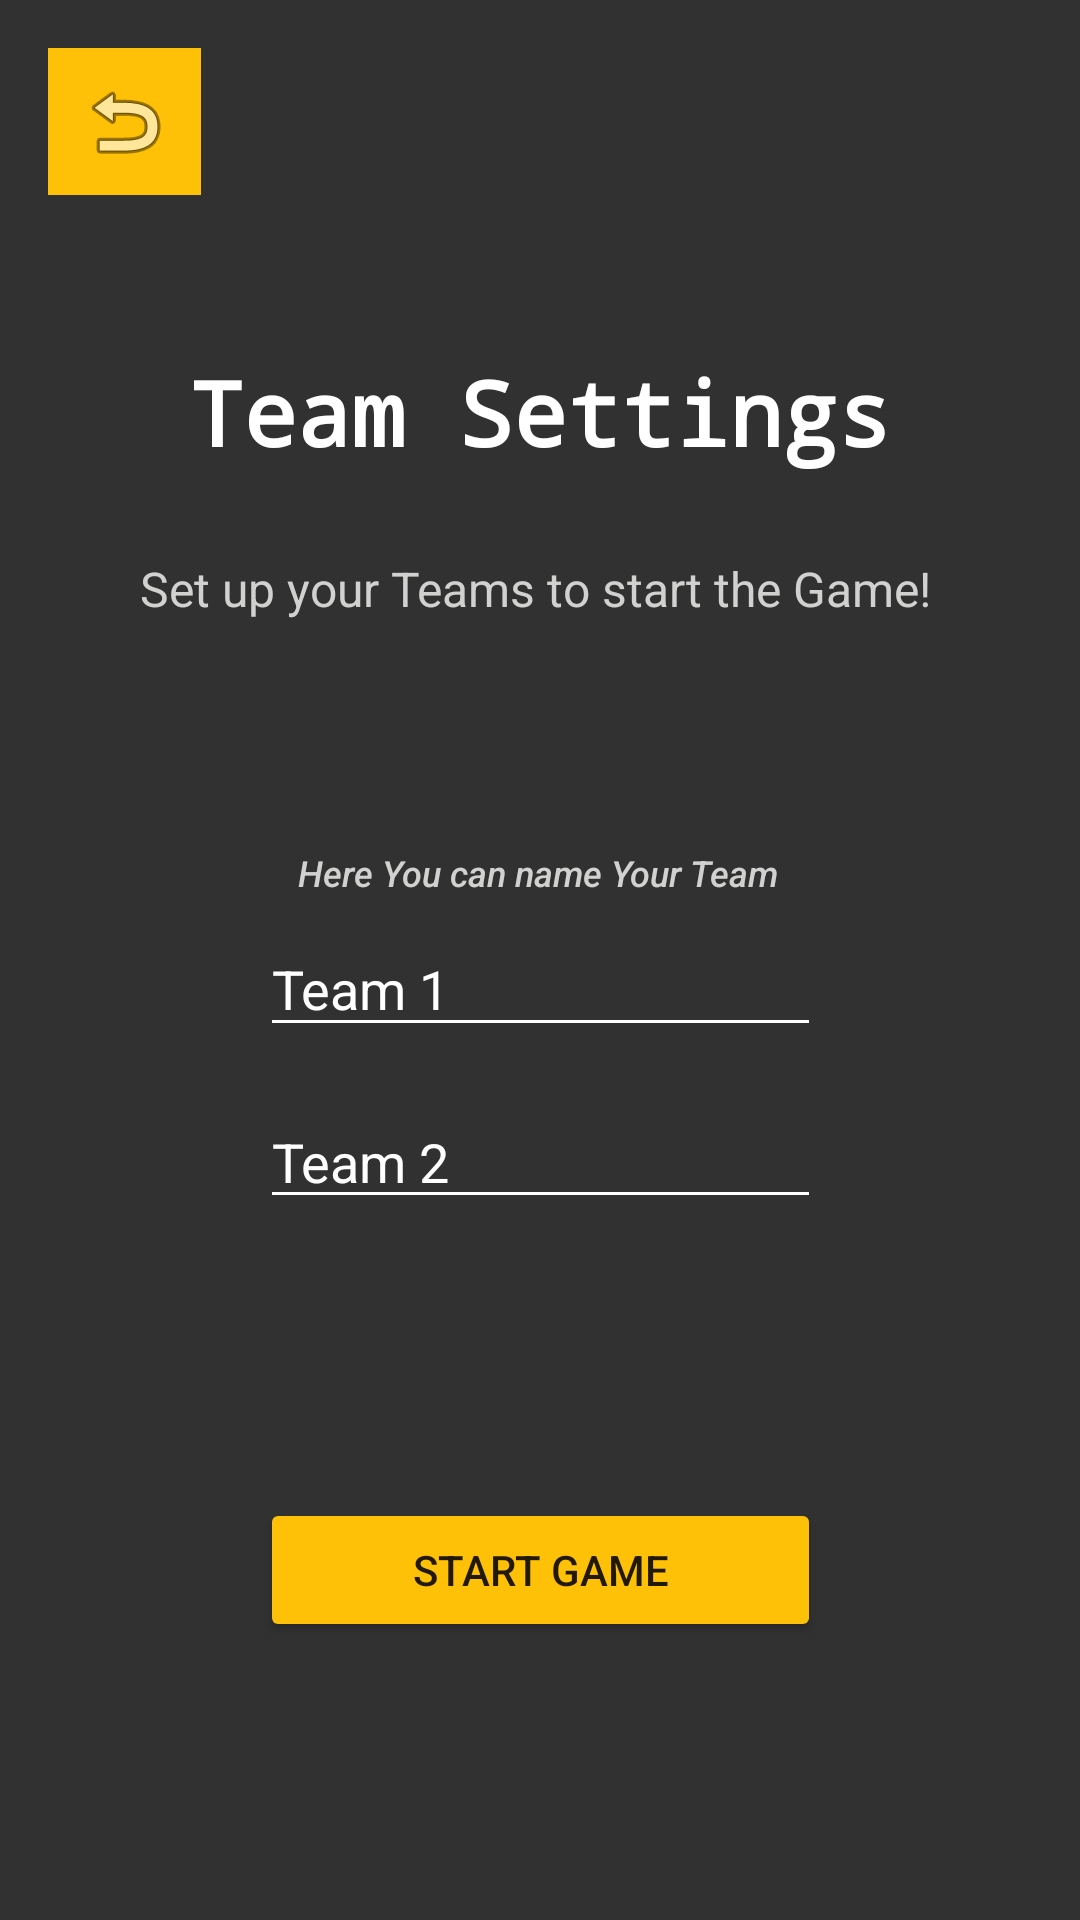

Icons on this 1080*1920 Android screen, each with the point to tap as (x=x, y=y):
revert: (x=124, y=121)
